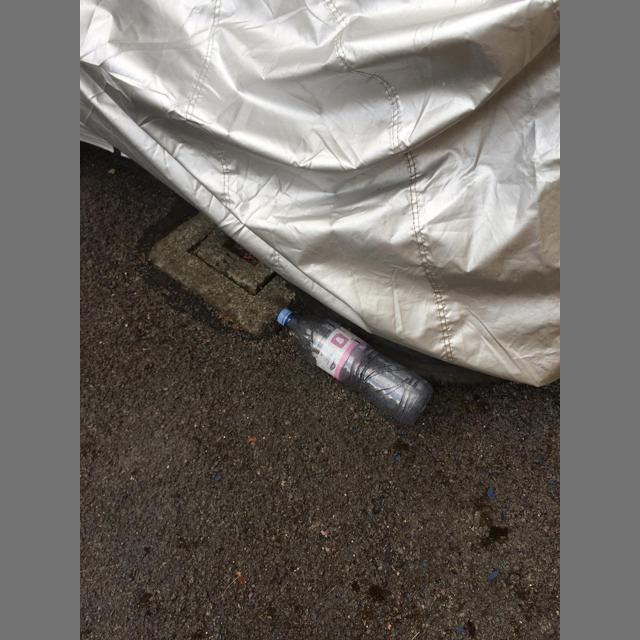litter: (277, 308, 434, 425), (277, 309, 291, 325)
